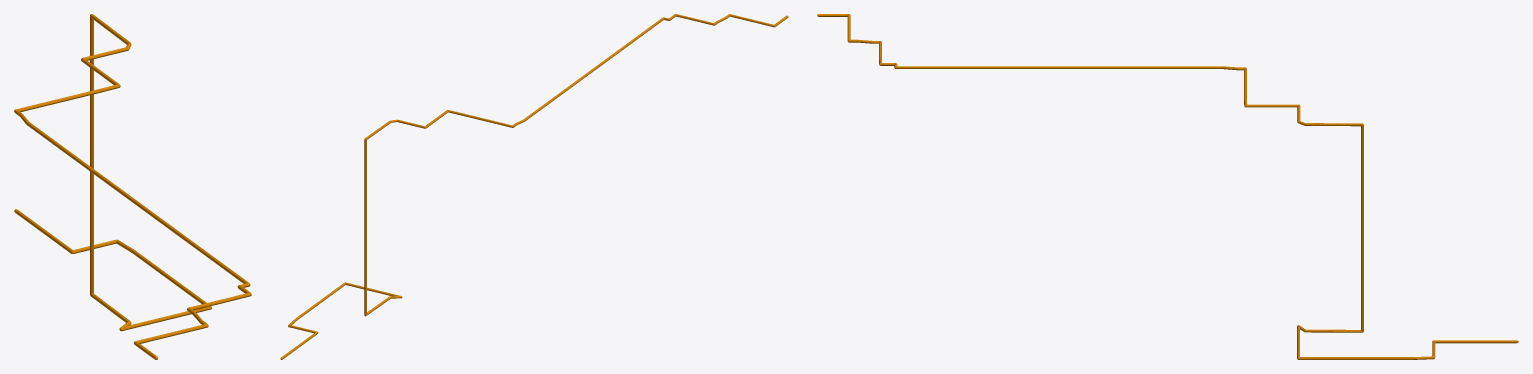
The picture shows the model from 3 angles, left to right: view 1: azimuth 30°, elevation 25°; view 2: azimuth 150°, elevation 25°; view 3: azimuth 270°, elevation 25°; orthographic projection. The views are drawn at different scales.
Size of the model in its own units: 2147 by 1520 by 4618.
